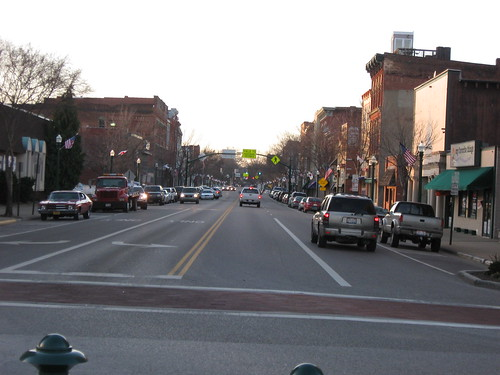building: (418, 80, 500, 246), (62, 97, 185, 175), (368, 55, 414, 189), (1, 116, 72, 199), (318, 105, 359, 181)
car: (307, 194, 383, 249), (383, 201, 445, 254), (39, 187, 97, 223), (91, 169, 137, 212), (237, 184, 263, 212), (142, 183, 165, 206), (180, 184, 201, 206)
sky: (12, 1, 500, 99)
street: (13, 200, 487, 370)
